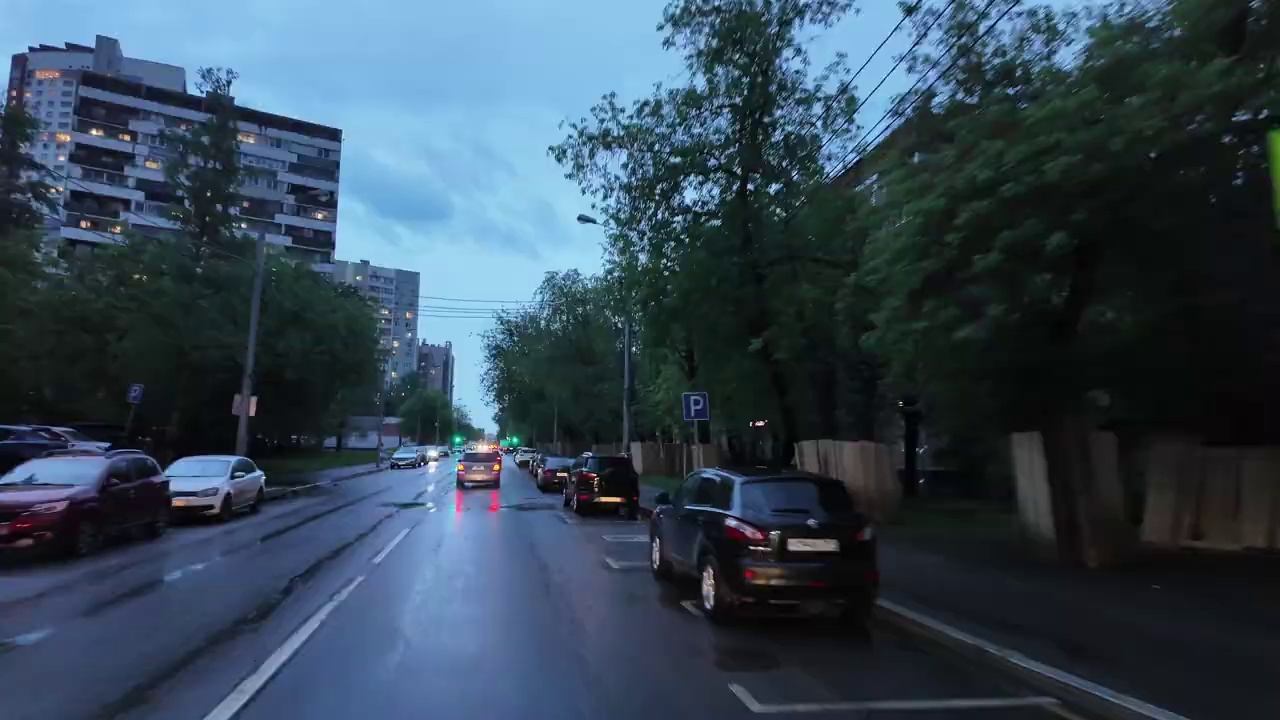apagada: (567, 207, 606, 230)
